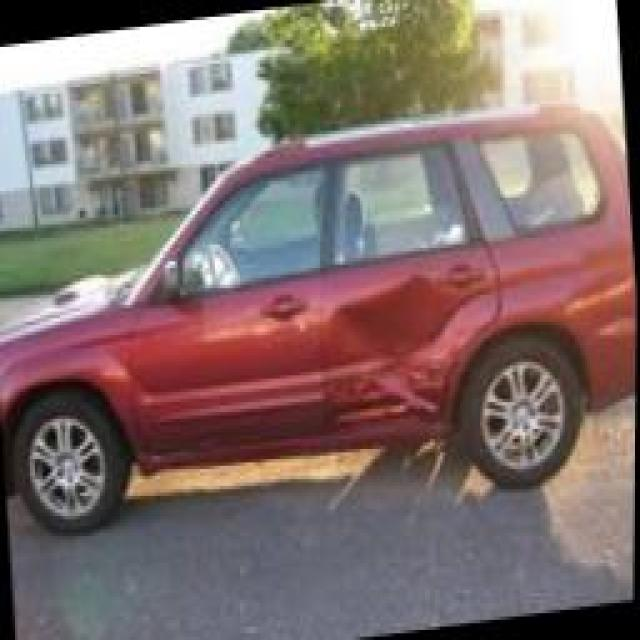Door: (327, 237, 499, 428)
